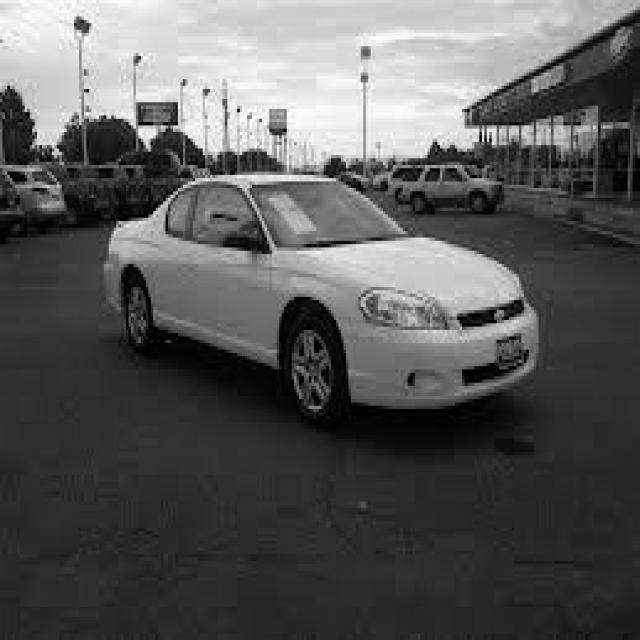car: (101, 168, 539, 426), (396, 162, 506, 214), (0, 165, 66, 231)
